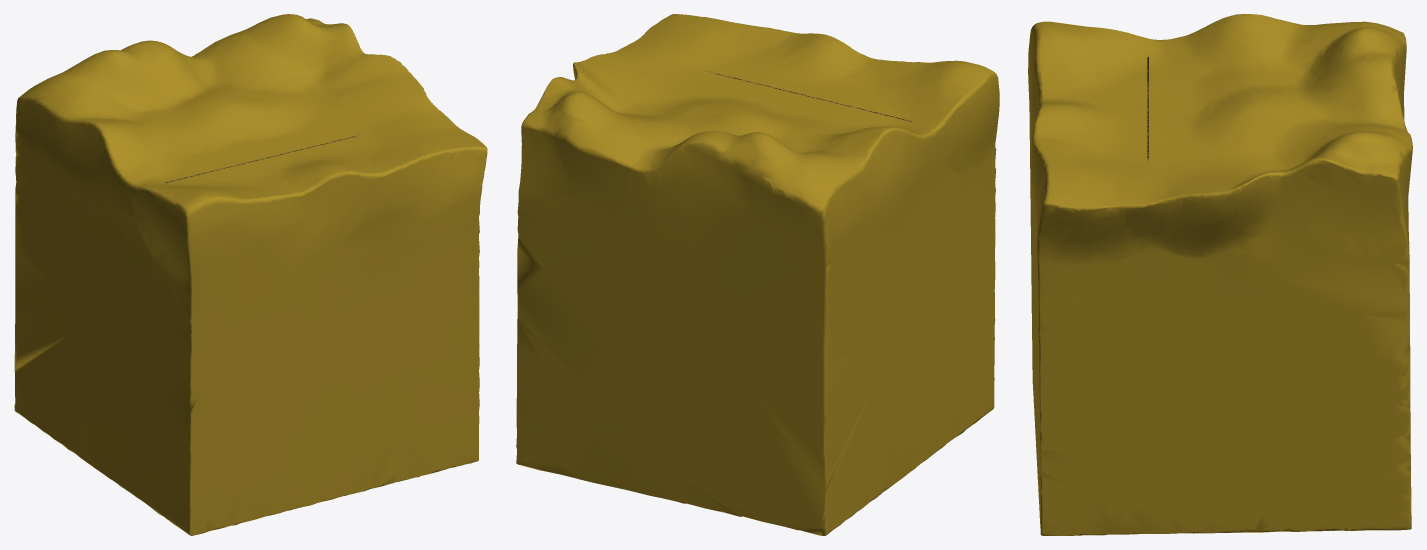
File: rtm_stage.gltf
The picture shows the model from 3 angles, left to right: view 1: azimuth 30°, elevation 25°; view 2: azimuth 150°, elevation 25°; view 3: azimuth 270°, elevation 25°; orthographic projection. The views are drawn at different scales.
Parts seen in each view (by area): view 1: Layer_1; view 2: Layer_1; view 3: Layer_1.
Boxes of the visible parts, box(x1,y1,x2,y2) form: Layer_1: box(14, 14, 487, 535); Layer_1: box(516, 14, 999, 535); Layer_1: box(1028, 14, 1412, 535).
Bounding box in the file's own units: 662 × 712 × 635.
